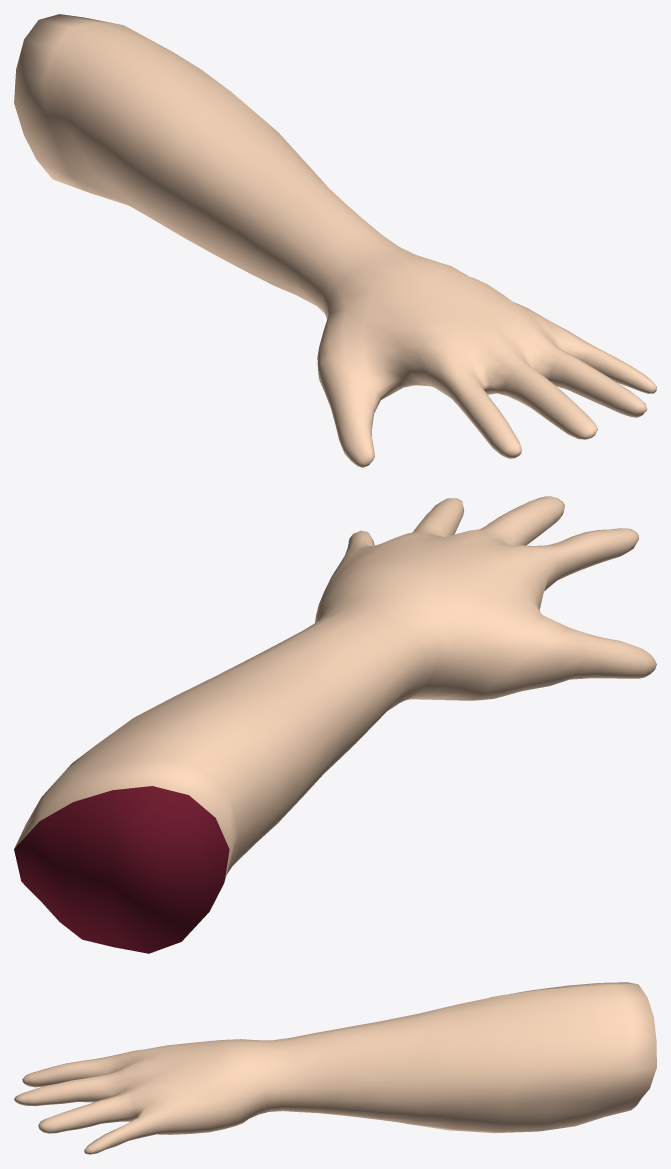
Rendered from MM_Arm.fbx.
3 views of the same model, one above another, from view 1: azimuth 30°, elevation 25°; view 2: azimuth 150°, elevation 25°; view 3: azimuth 270°, elevation 25° (orthographic). The views are drawn at different scales.
Parts seen in each view (by area): view 1: arm; view 2: arm; view 3: arm.
Boxes of the visible parts, <box> form: arm: <box>14,14,656,467</box>; arm: <box>14,496,656,953</box>; arm: <box>14,982,656,1154</box>.
Bounding box in the file's own units: 17.97 × 10.58 × 51.47.
